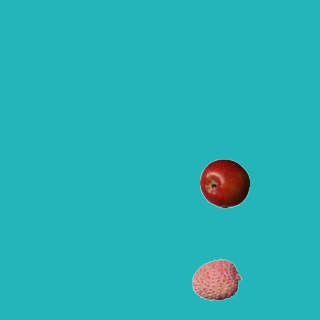Apple Braeburn: (199, 158, 249, 208)
Lychee: (191, 254, 241, 304)
